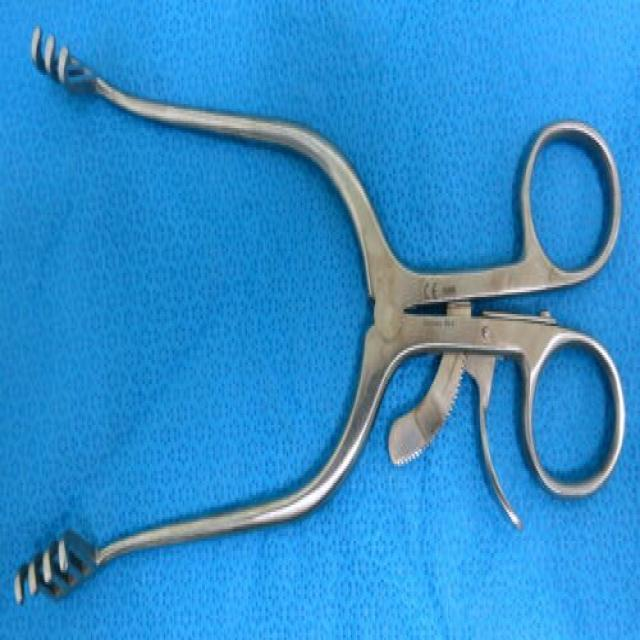Self Retractor: (6, 4, 622, 614)
